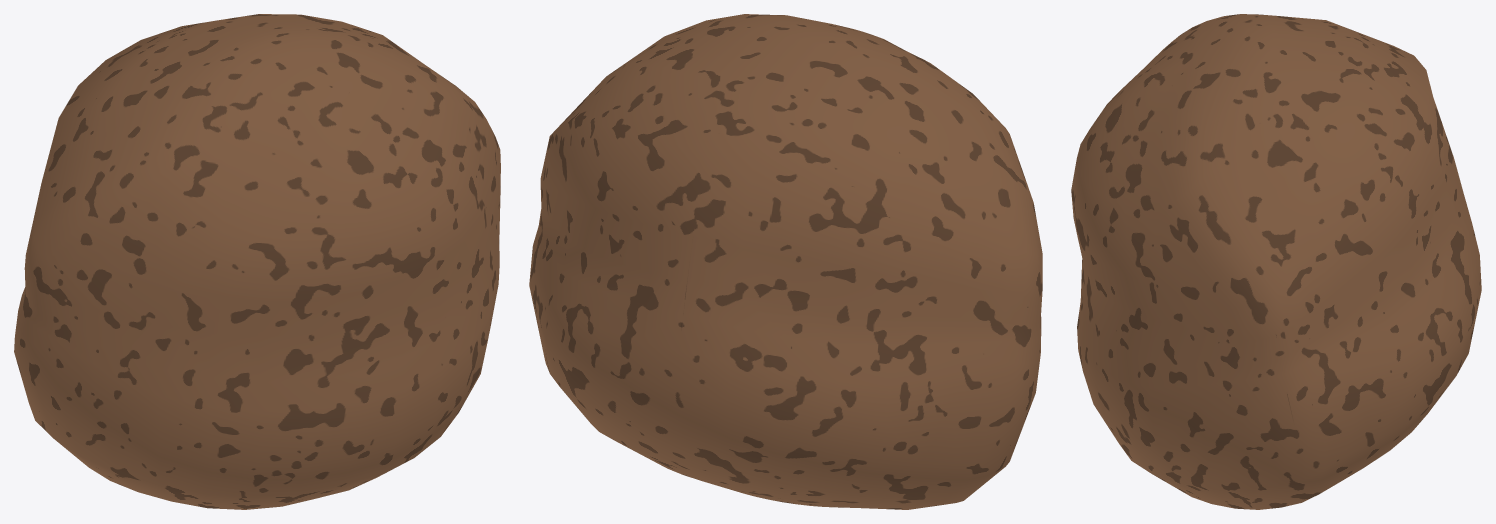
The model's file is afro-hair.glb.
The picture shows the model from 3 angles, left to right: view 1: azimuth 30°, elevation 25°; view 2: azimuth 150°, elevation 25°; view 3: azimuth 270°, elevation 25°; orthographic projection. The views are drawn at different scales.
Visible parts, largest first — view 1: Sphere.004; view 2: Sphere.004; view 3: Sphere.004.
Part boxes in pixels (x1,y1,x2,y2): Sphere.004: [14, 14, 500, 509]; Sphere.004: [529, 14, 1042, 509]; Sphere.004: [1071, 14, 1481, 509].
Bounding box in the file's own units: 3.12 × 2.82 × 2.43.
1 material, 1 textured.
